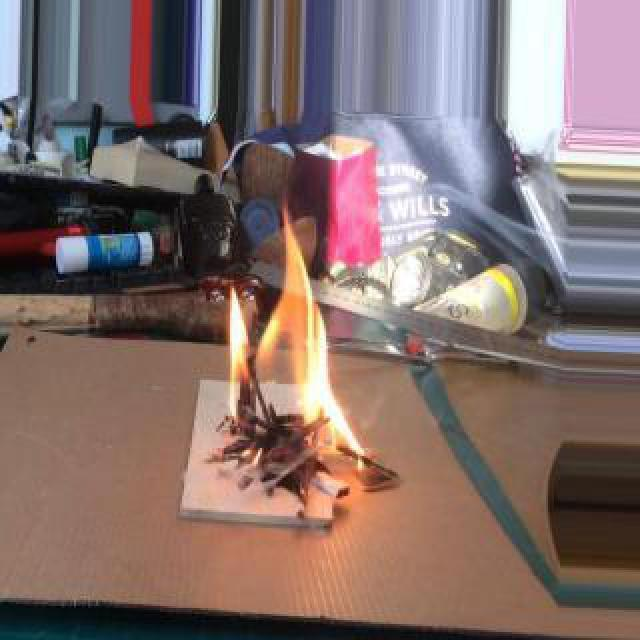Fire: (226, 196, 362, 460)
